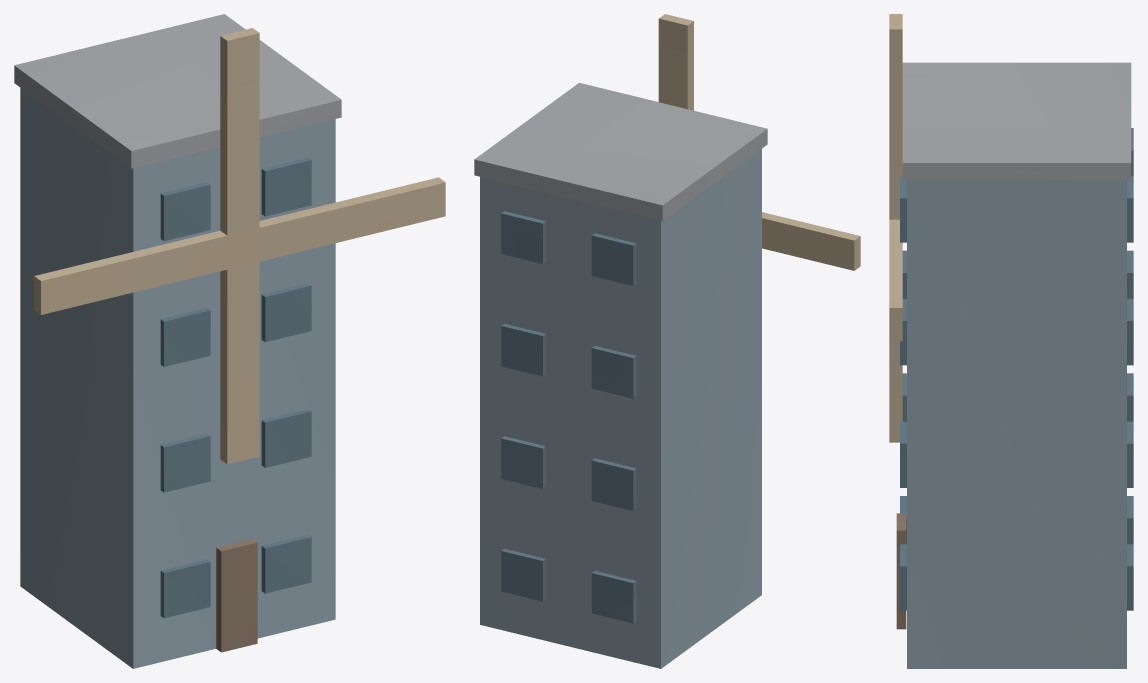
Rendered from windmill-05.glb.
The picture shows the model from 3 angles, left to right: view 1: azimuth 30°, elevation 25°; view 2: azimuth 150°, elevation 25°; view 3: azimuth 270°, elevation 25°; orthographic projection. The views are drawn at different scales.
Visible parts, largest first — view 1: world; view 2: world; view 3: world.
Boxes of the visible parts, box(x1,y1,x2,y2) form: world: box(14, 14, 445, 668); world: box(474, 14, 860, 668); world: box(889, 14, 1133, 668).
Size of the model in its own units: 1.67 by 2.43 by 0.8978.
